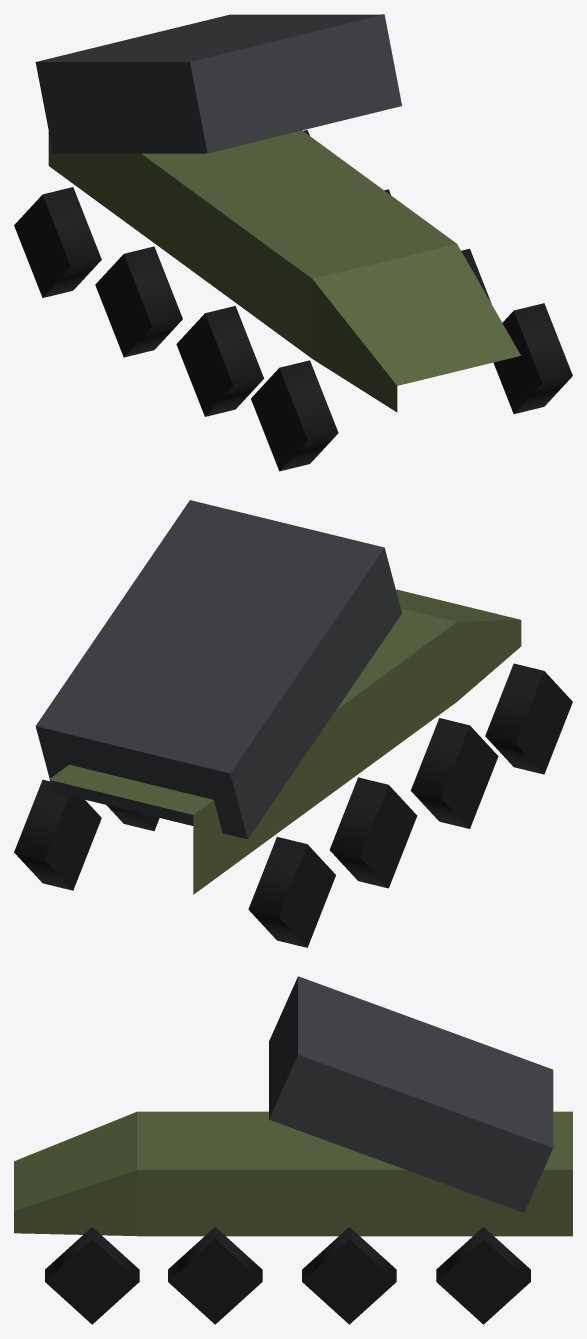
The model's file is veh_ground_rocket_launcher_a08_lod2.glb.
3 views of the same model, one above another, from view 1: azimuth 30°, elevation 25°; view 2: azimuth 150°, elevation 25°; view 3: azimuth 270°, elevation 25° (orthographic). The views are drawn at different scales.
Parts seen in each view (by area): view 1: body, launcher, wheel_2, wheel_0, wheel_6, wheel_4, wheel_7; view 2: launcher, body, wheel_2, wheel_6, wheel_4, wheel_0, wheel_1, wheel_3; view 3: body, launcher, wheel_5, wheel_3, wheel_1, wheel_7.
Boxes of the visible parts, x1,y1,x2,y2 form: body: [48, 130, 520, 412]; launcher: [35, 14, 401, 153]; wheel_2: [95, 246, 182, 357]; wheel_0: [14, 187, 101, 297]; wheel_6: [251, 360, 338, 471]; wheel_4: [176, 306, 263, 416]; wheel_7: [493, 303, 572, 413]; launcher: [35, 500, 401, 839]; body: [49, 589, 521, 894]; wheel_2: [329, 777, 417, 888]; wheel_6: [485, 663, 572, 774]; wheel_4: [410, 718, 498, 828]; wheel_0: [248, 837, 335, 947]; wheel_1: [14, 779, 101, 890]; wheel_3: [106, 805, 159, 831]; body: [14, 1111, 572, 1236]; launcher: [269, 976, 553, 1212]; wheel_5: [168, 1227, 262, 1324]; wheel_3: [302, 1227, 396, 1324]; wheel_1: [436, 1227, 530, 1324]; wheel_7: [45, 1227, 139, 1324].
Bounding box in the file's own units: 2.94 × 3.28 × 6.5.
